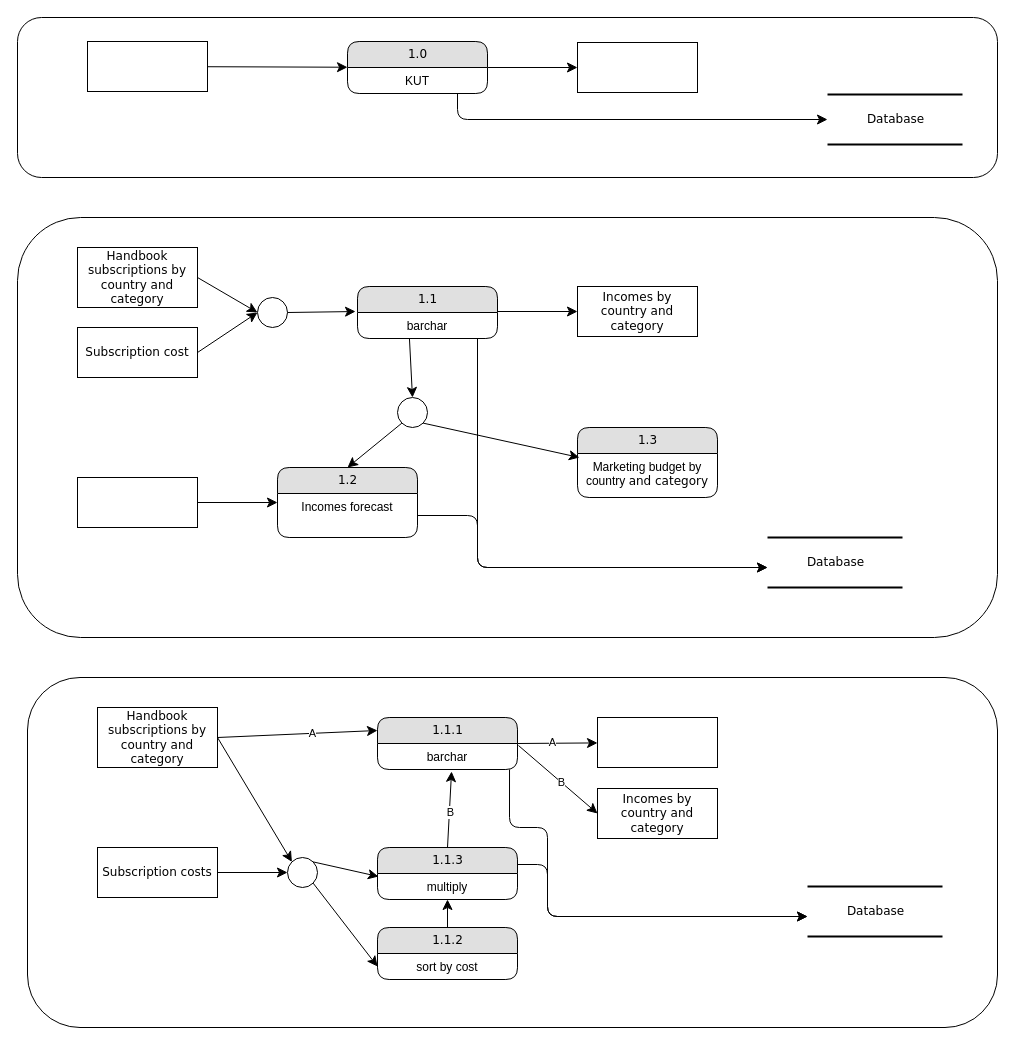
This 1015x1045 diagram has some shape labels left out. Here are the shapes that lost their labels. From the top down, the centre of each, then its label:
point 147,66: Handbook subscriptions
point 637,67: Incomes forecast by country and category
point 137,502: Incomes by country in previous years
point 657,742: Subscriptions by country
